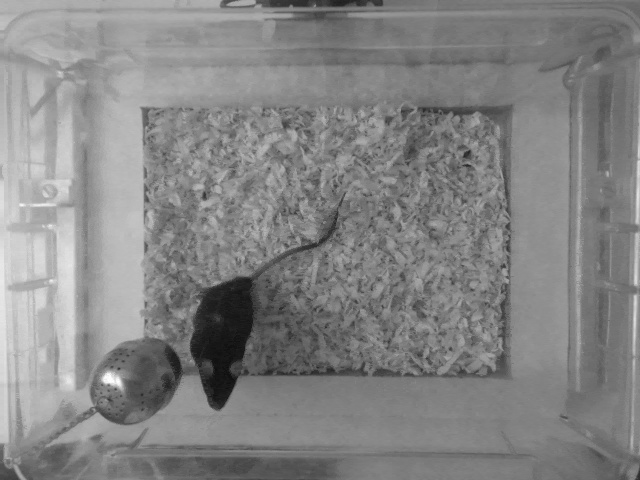mice: (186, 189, 348, 415)
